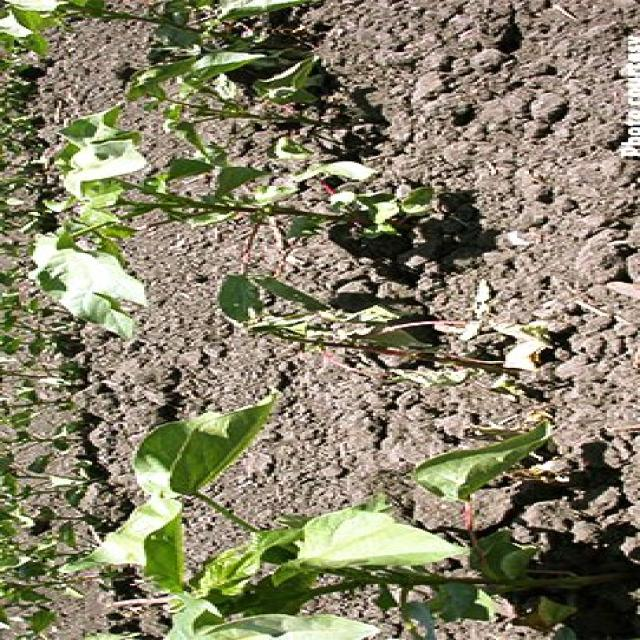Fusarium Wilt: (4, 0, 542, 640)
